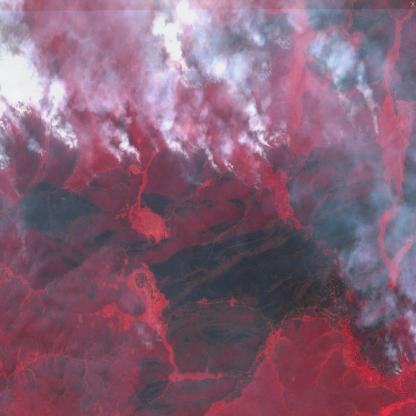fire: (112, 121, 390, 191), (0, 102, 83, 172)
